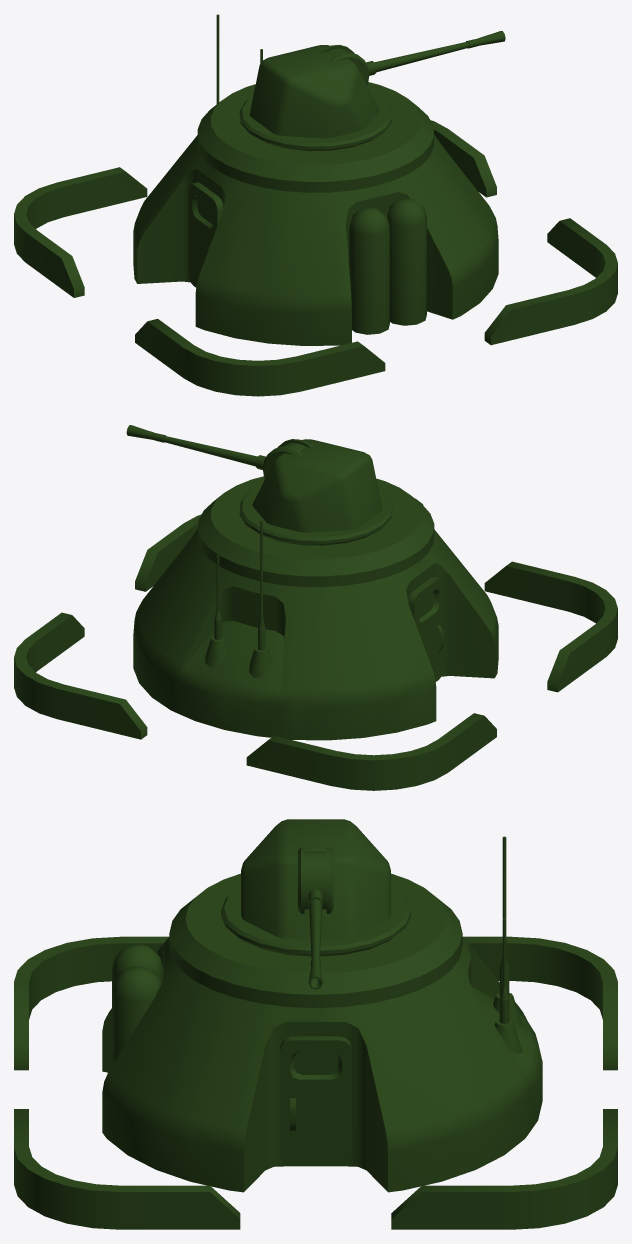
The model's file is Bunker 1.fbx.
The picture shows the model from 3 angles, top to bottom: view 1: azimuth 30°, elevation 25°; view 2: azimuth 150°, elevation 25°; view 3: azimuth 270°, elevation 25°; orthographic projection. The views are drawn at different scales.
Visible parts, largest first — view 1: Body, Walls, Tanks, Gunbody, Cylinder, Doors, Gunbarrel; view 2: Body, Walls, Gunbody, Cylinder, Doors, Antenna, Gunbarrel; view 3: Body, Walls, Gunbody, Doors, Cylinder, Tanks, Gunbarrel, Antenna.
Part boxes in pixels (x1,y1,x2,y2): Body: [133, 82, 498, 345]; Walls: [14, 120, 617, 396]; Tanks: [349, 198, 426, 334]; Gunbody: [249, 45, 379, 138]; Cylinder: [239, 91, 392, 151]; Doors: [188, 182, 223, 287]; Gunbarrel: [319, 31, 505, 85]; Body: [133, 476, 498, 740]; Walls: [14, 514, 617, 790]; Gunbody: [252, 439, 382, 532]; Cylinder: [239, 485, 392, 545]; Doors: [408, 576, 443, 681]; Antenna: [205, 520, 272, 678]; Gunbarrel: [126, 425, 312, 479]; Body: [102, 873, 542, 1192]; Walls: [14, 936, 617, 1229]; Gunbody: [241, 819, 390, 938]; Doors: [280, 1036, 351, 1165]; Cylinder: [221, 886, 410, 956]; Tanks: [112, 944, 163, 1065]; Gunbarrel: [298, 847, 333, 989]; Antenna: [493, 836, 522, 1053].
Size of the model in its own units: 800 by 387 by 800.
